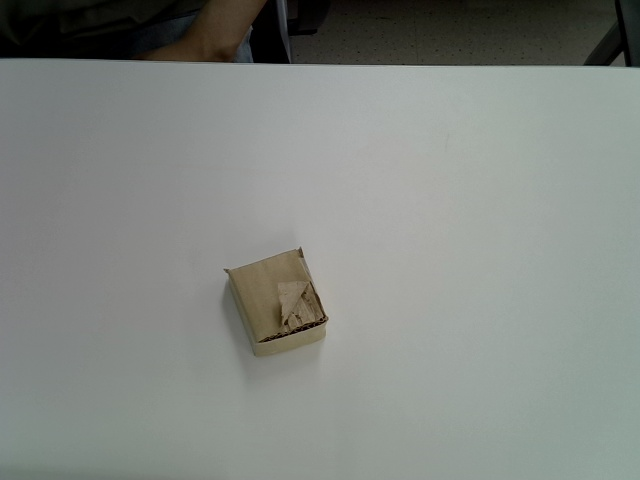defect: (221, 245, 328, 359)
